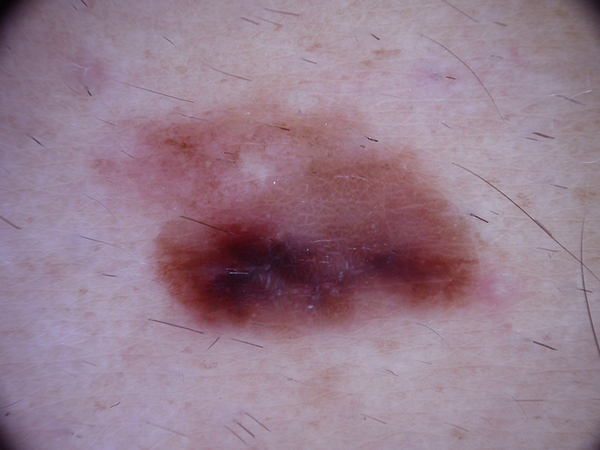Detected Lesion: (133, 114, 485, 333)
